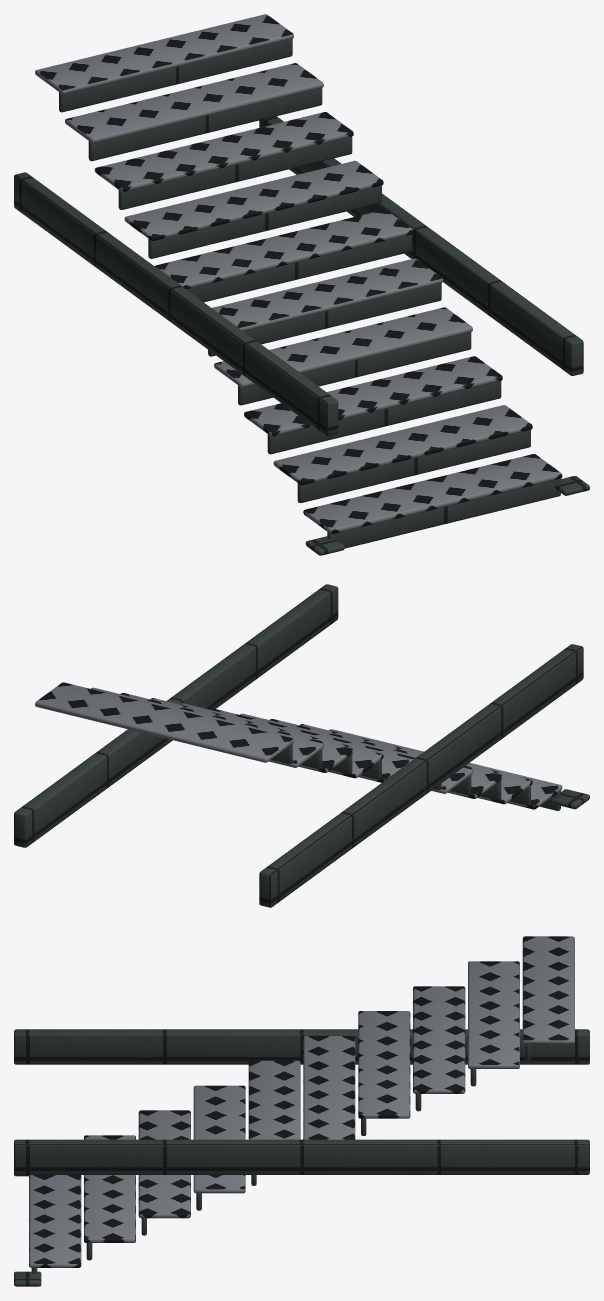
The model's file is WK_STRUCT_STAIRS_A_01.glb.
3 views of the same model, one above another, from view 1: azimuth 30°, elevation 25°; view 2: azimuth 150°, elevation 25°; view 3: azimuth 270°, elevation 25° (orthographic). The views are drawn at different scales.
Visible parts, largest first — view 1: WK_STRUCT_STAIRS_A_01; view 2: WK_STRUCT_STAIRS_A_01; view 3: WK_STRUCT_STAIRS_A_01.
Boxes of the visible parts, x1,y1,x2,y2 form: WK_STRUCT_STAIRS_A_01: (14,14,589,555); WK_STRUCT_STAIRS_A_01: (14,584,589,907); WK_STRUCT_STAIRS_A_01: (14,936,589,1286).
Size of the model in its own units: 2.1 by 1.98 by 4.2.
Materials: 2 (2 with a texture image).
